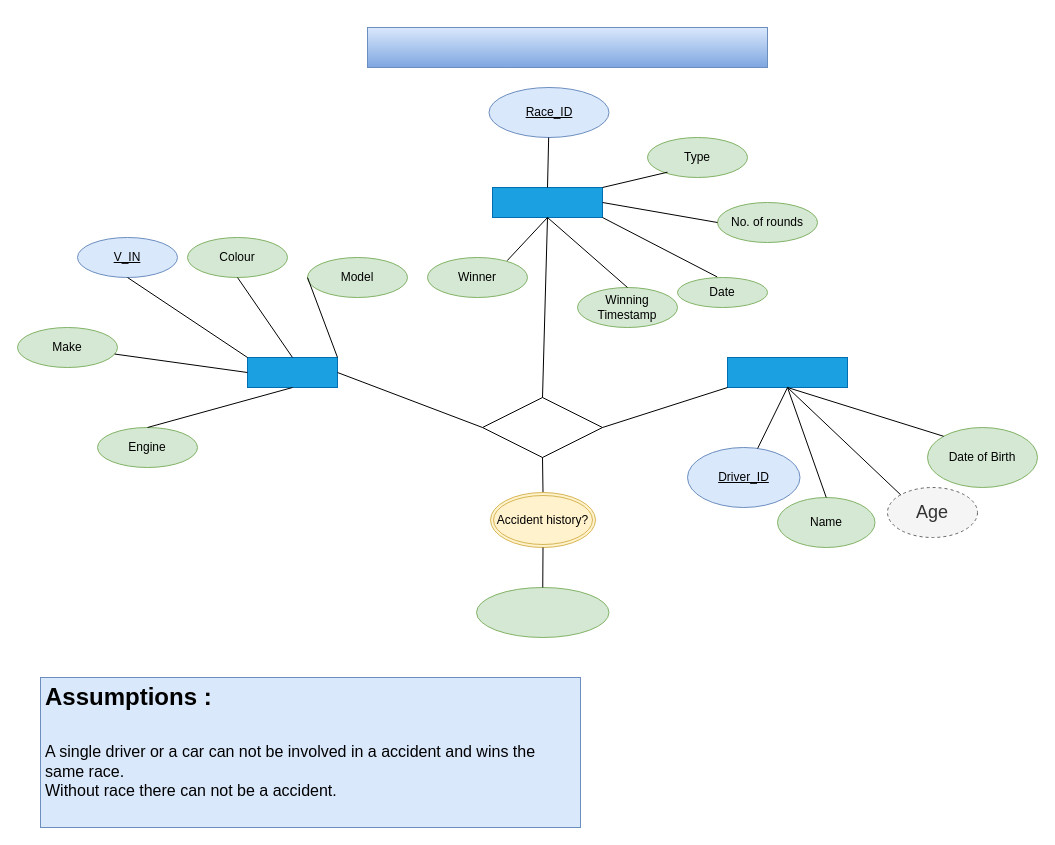
Image size: 1055x845. Some labels were removed from this diagram. The box of each missing label's shape, as (x1, y1, x2, y2) in pixels:
Car: (246, 356, 338, 388)
corresponding driver, race, car: (476, 586, 609, 638)
Driver: (726, 356, 848, 388)
Involves: (482, 396, 602, 458)
Problem 1 Car-Race Database: (366, 26, 768, 68)
Race: (492, 186, 602, 218)
